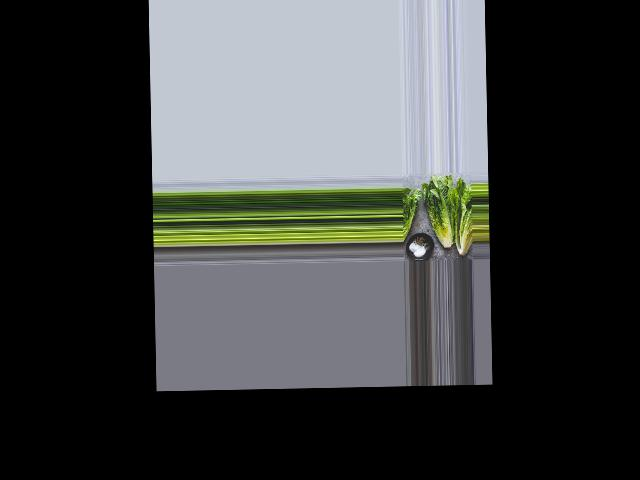lettuce: (451, 183, 472, 260)
